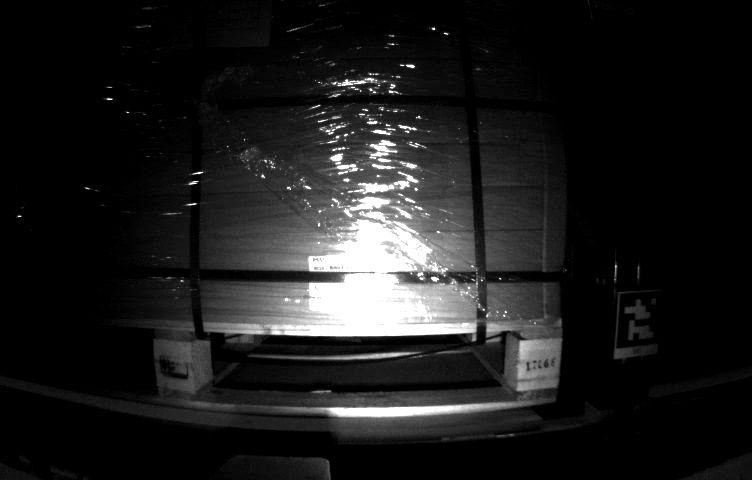True Barcode: (305, 257, 381, 311)
